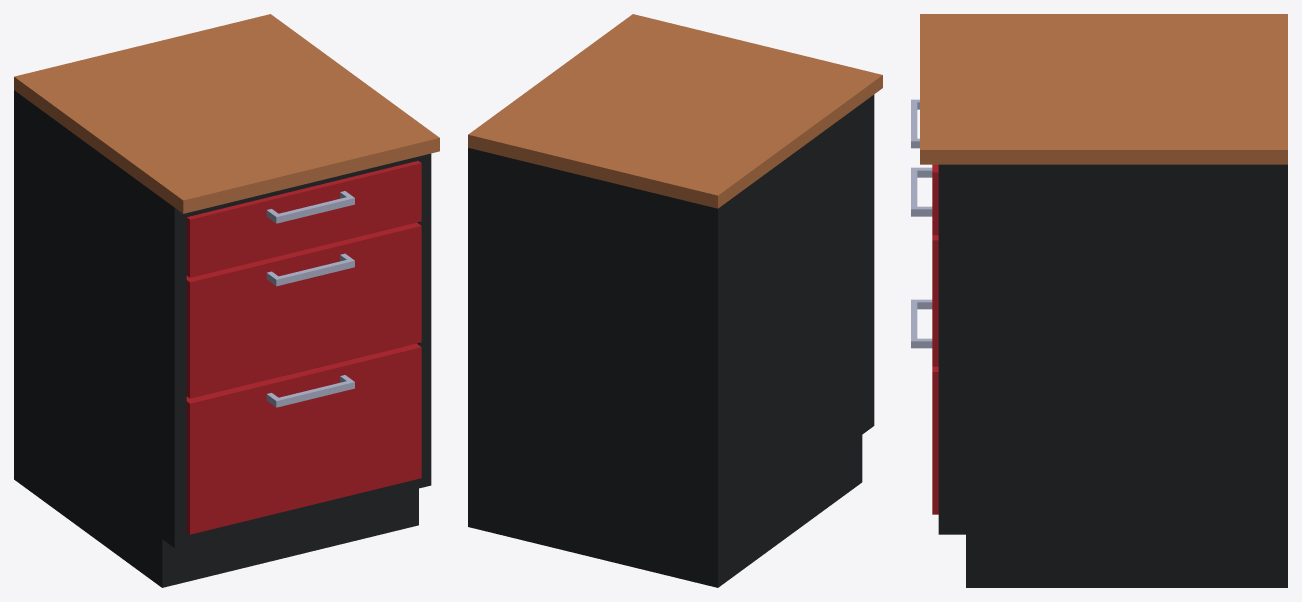
File: furniture_drawer.fbx
3 renders of one model, left to right at view 1: azimuth 30°, elevation 25°; view 2: azimuth 150°, elevation 25°; view 3: azimuth 270°, elevation 25°, orthographic. The views are drawn at different scales.
Parts seen in each view (by area): view 1: Drawer Body, Drawer 3, Drawer 2, Drawer 1; view 2: Drawer Body; view 3: Drawer Body, Drawer 3, Drawer 2, Drawer 1.
Part boxes in pixels (box(x1,y1,x2,y2)): Drawer Body: box(14, 14, 439, 587); Drawer 3: box(186, 343, 421, 534); Drawer 2: box(186, 222, 421, 398); Drawer 1: box(186, 160, 421, 277); Drawer Body: box(468, 14, 882, 587); Drawer Body: box(920, 14, 1287, 587); Drawer 3: box(911, 299, 938, 514); Drawer 2: box(911, 167, 938, 366); Drawer 1: box(911, 99, 938, 235).
Bounding box in the file's own units: 0.6 × 0.9 × 0.7021.
